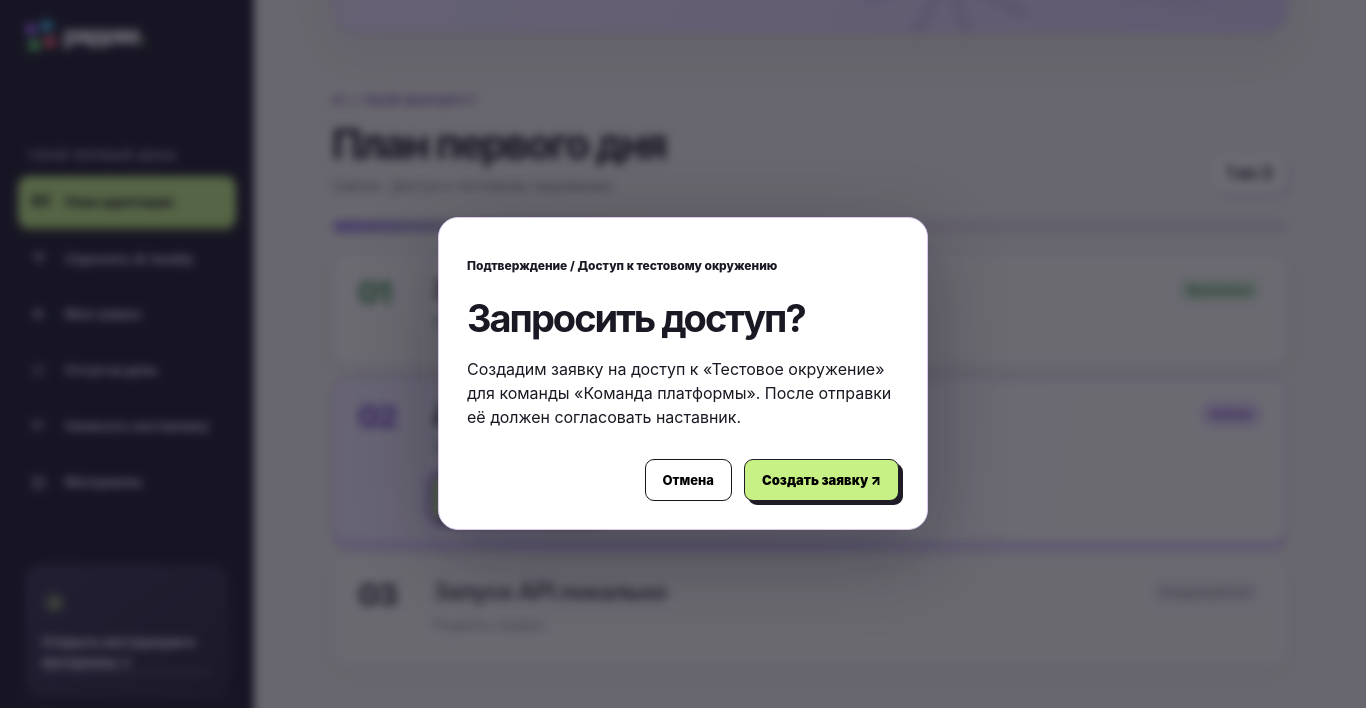
confirms access explicitly, displays its status, and reflects mentor approval in the plan
Earlier steps of the test are not shown.
(page scrolled)
Check: the text "Тестовое окружение" is shown, box [712,358,875,378]
Click the button "Отмена" at x=688, y=480, box [644,458,732,500]
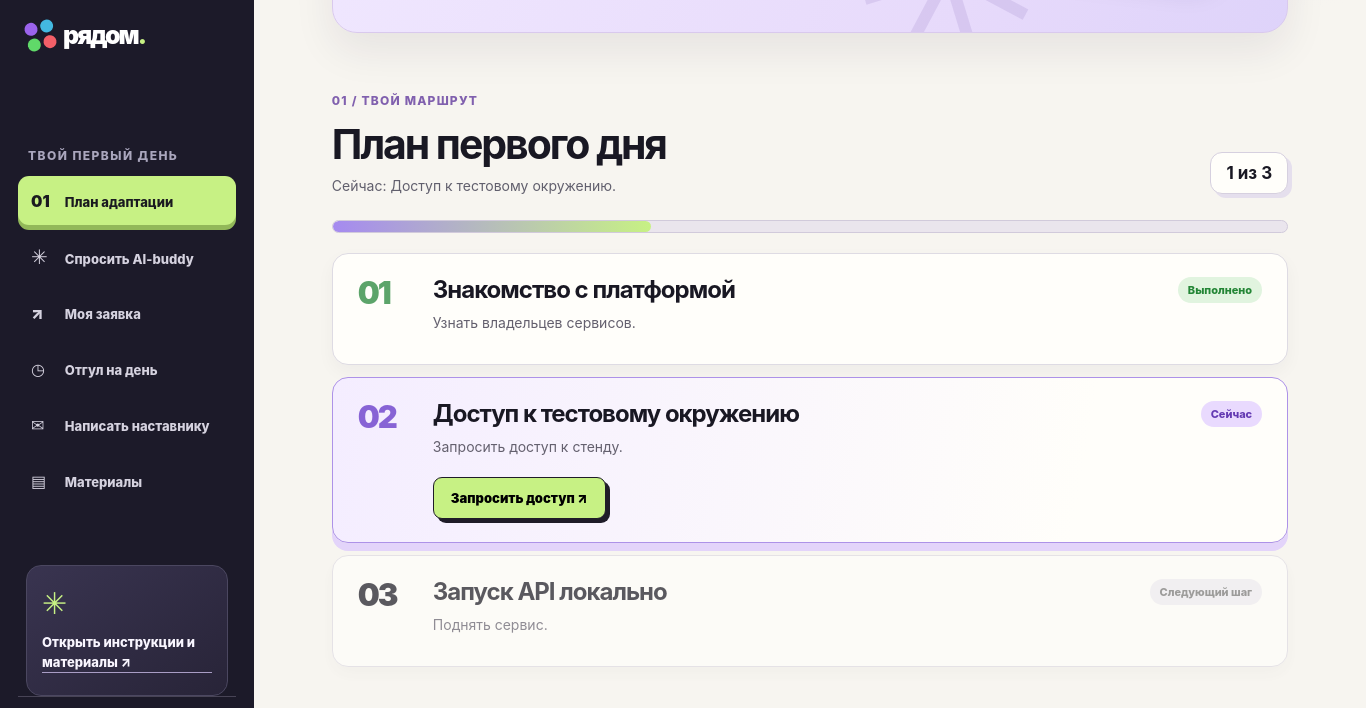
Check: the dialog is gone
Click the button "Запросить доступ ↗" at x=519, y=498, box [433,477,606,519]
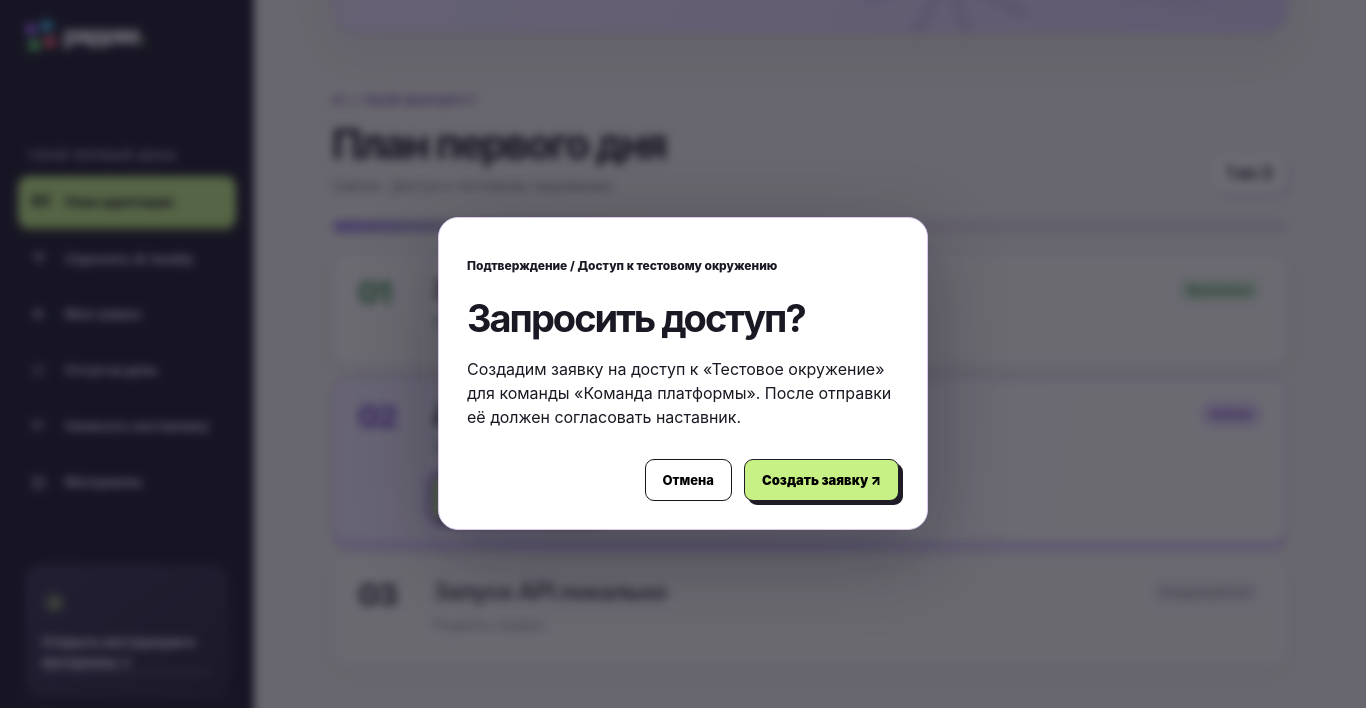
Click the button "Создать заявку ↗" at x=822, y=480, box [744,458,899,500]
(page scrolled)
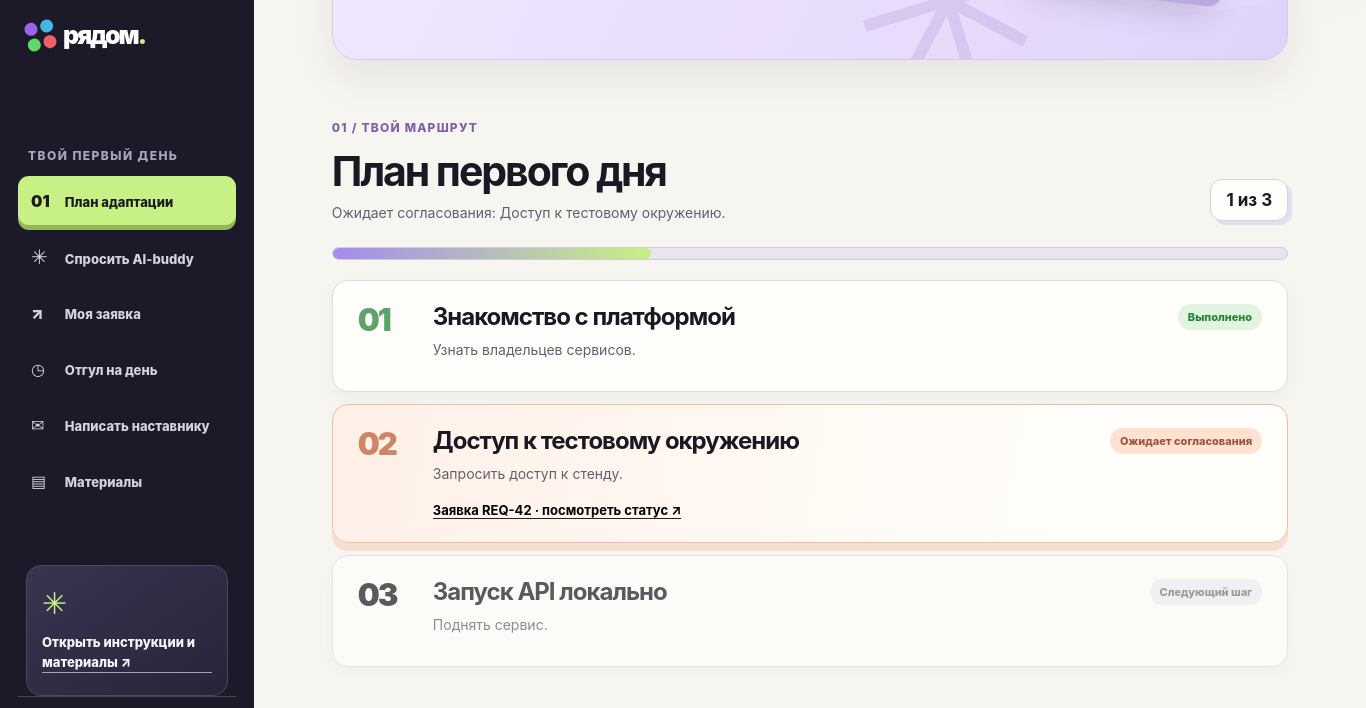
Check: the button "Заявка REQ-42 · посмотреть статус ↗" is shown
Click the button "Заявка REQ-42 · посмотреть статус ↗" at x=557, y=510, box [433,502,681,519]
(page scrolled)
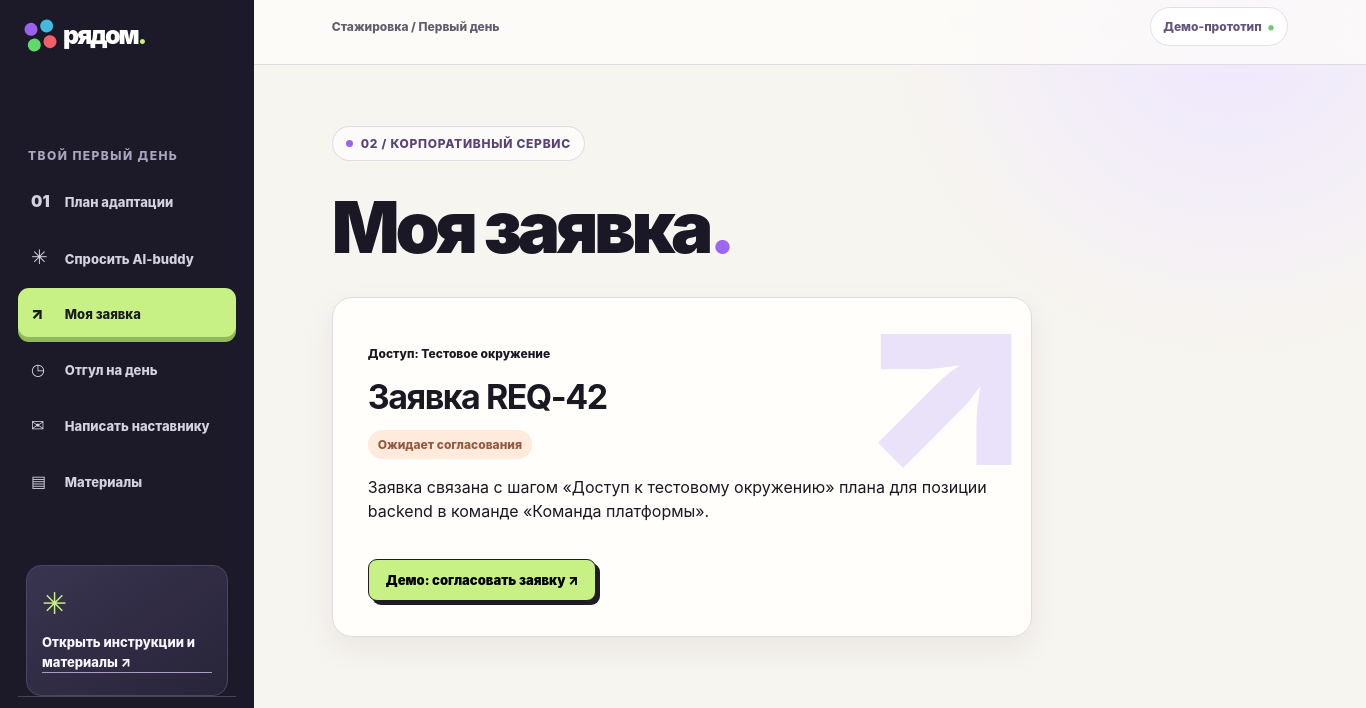
Check: the text "Ожидает согласования" is shown, box [368,430,532,459]
Check: the heading "Заявка REQ-42" is shown, box [368,376,607,417]
Click the button "Демо: согласовать заявку ↗" at x=482, y=580, box [368,559,596,601]
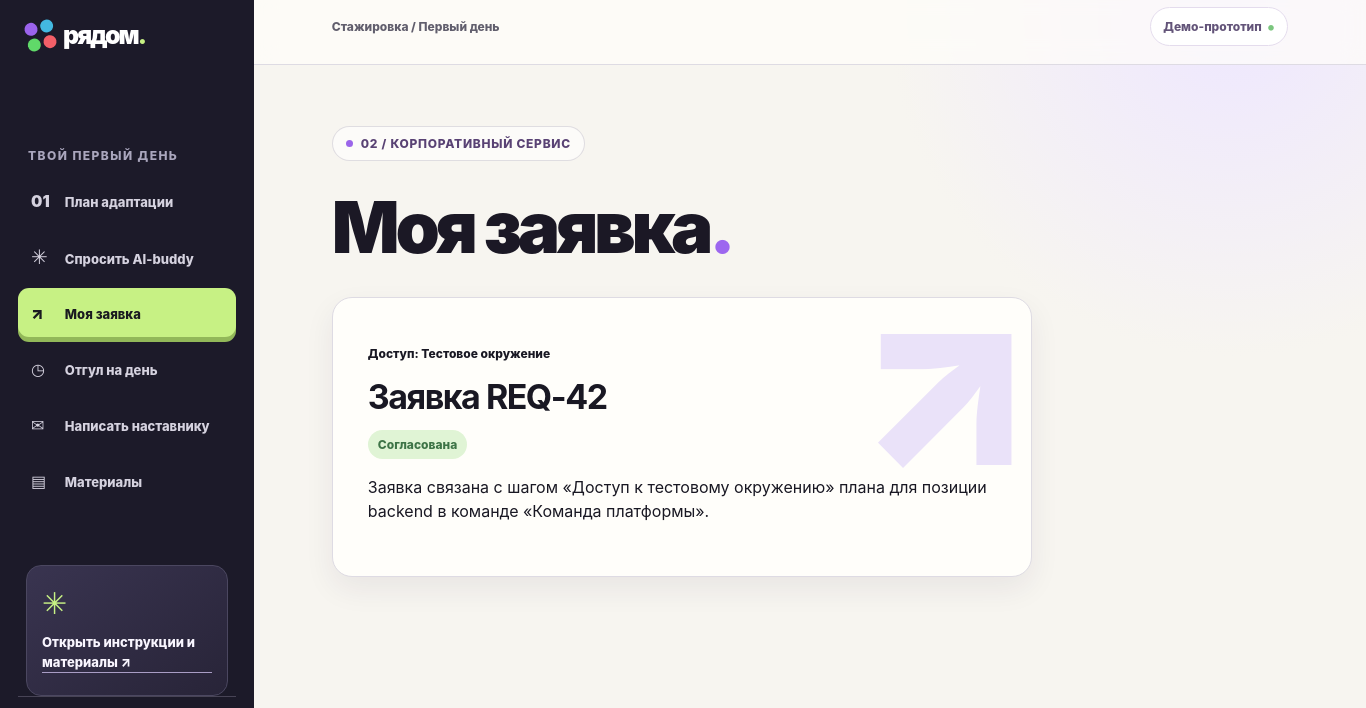
Check: the text "Согласована" is shown, box [368,430,467,459]
Check: the button "Демо: согласовать заявку" is gone
Click the button "01 План адаптации" at x=127, y=200, box [18,176,236,225]
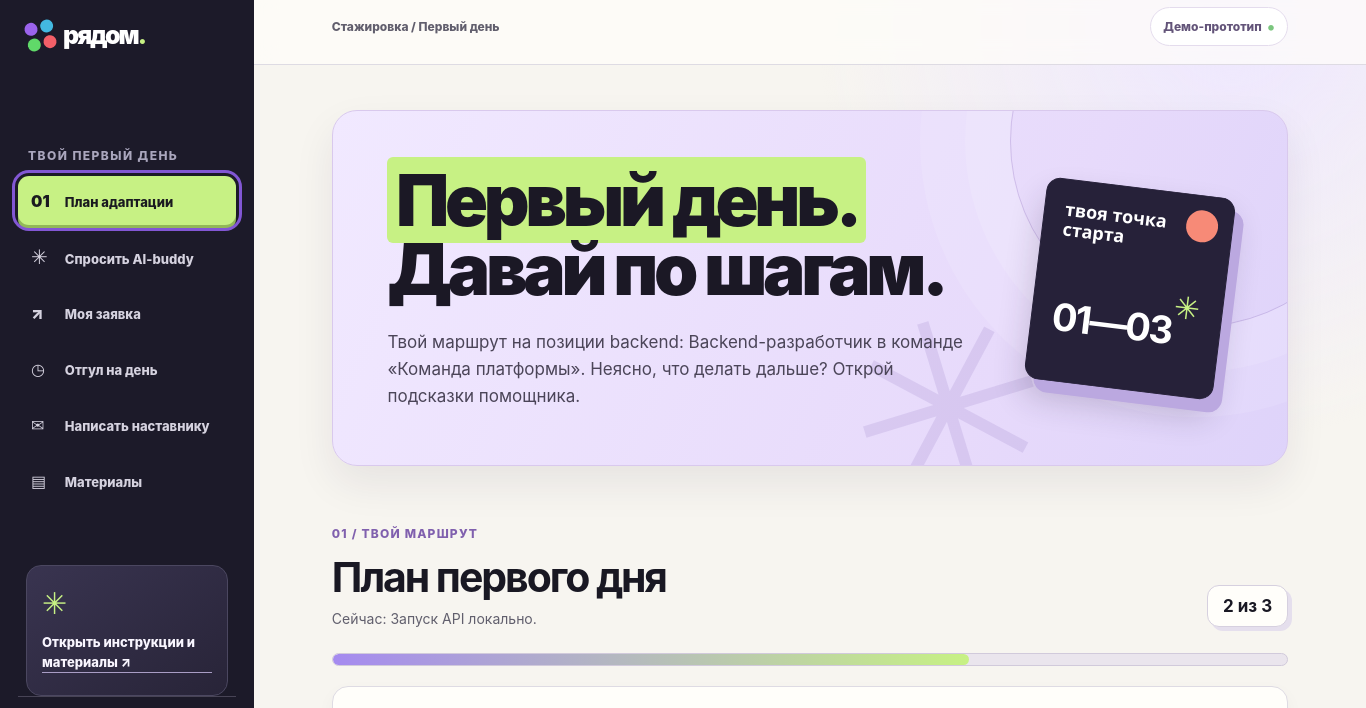
Check: the text "Сейчас: Запуск API локально." is shown, box [332,610,537,627]
